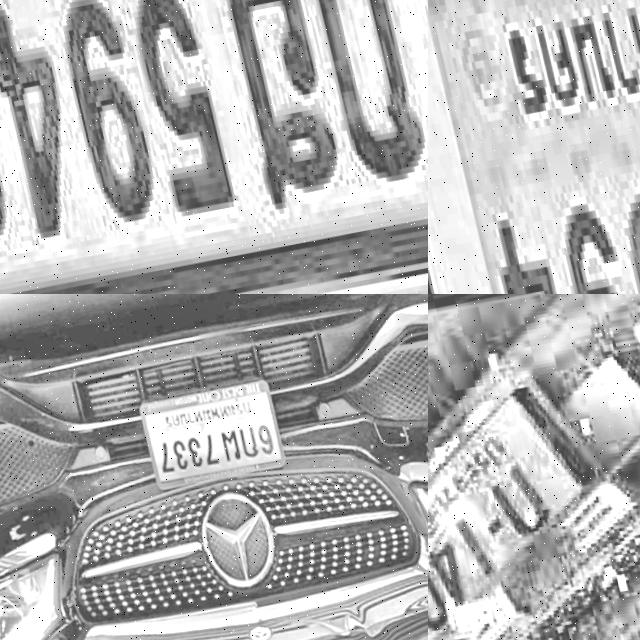license-plate: (0, 0, 428, 294), (428, 0, 640, 294), (428, 364, 640, 640), (134, 377, 282, 488)
